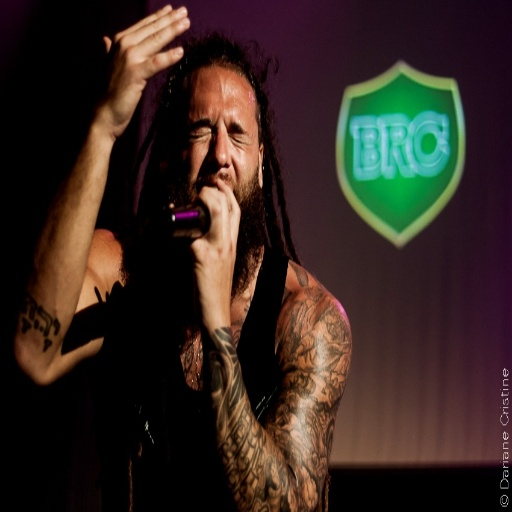hand: (175, 176, 241, 338), (95, 7, 184, 123)
